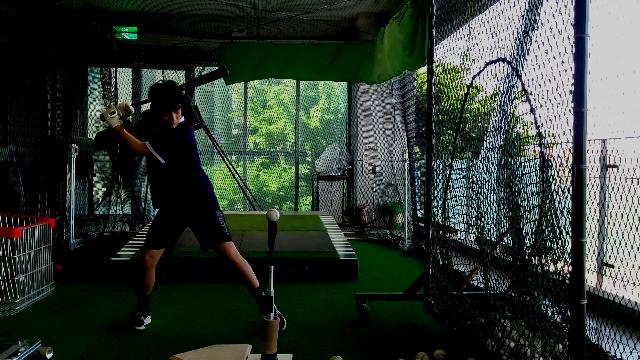ball: (266, 208, 282, 224)
bat: (134, 65, 230, 109)
